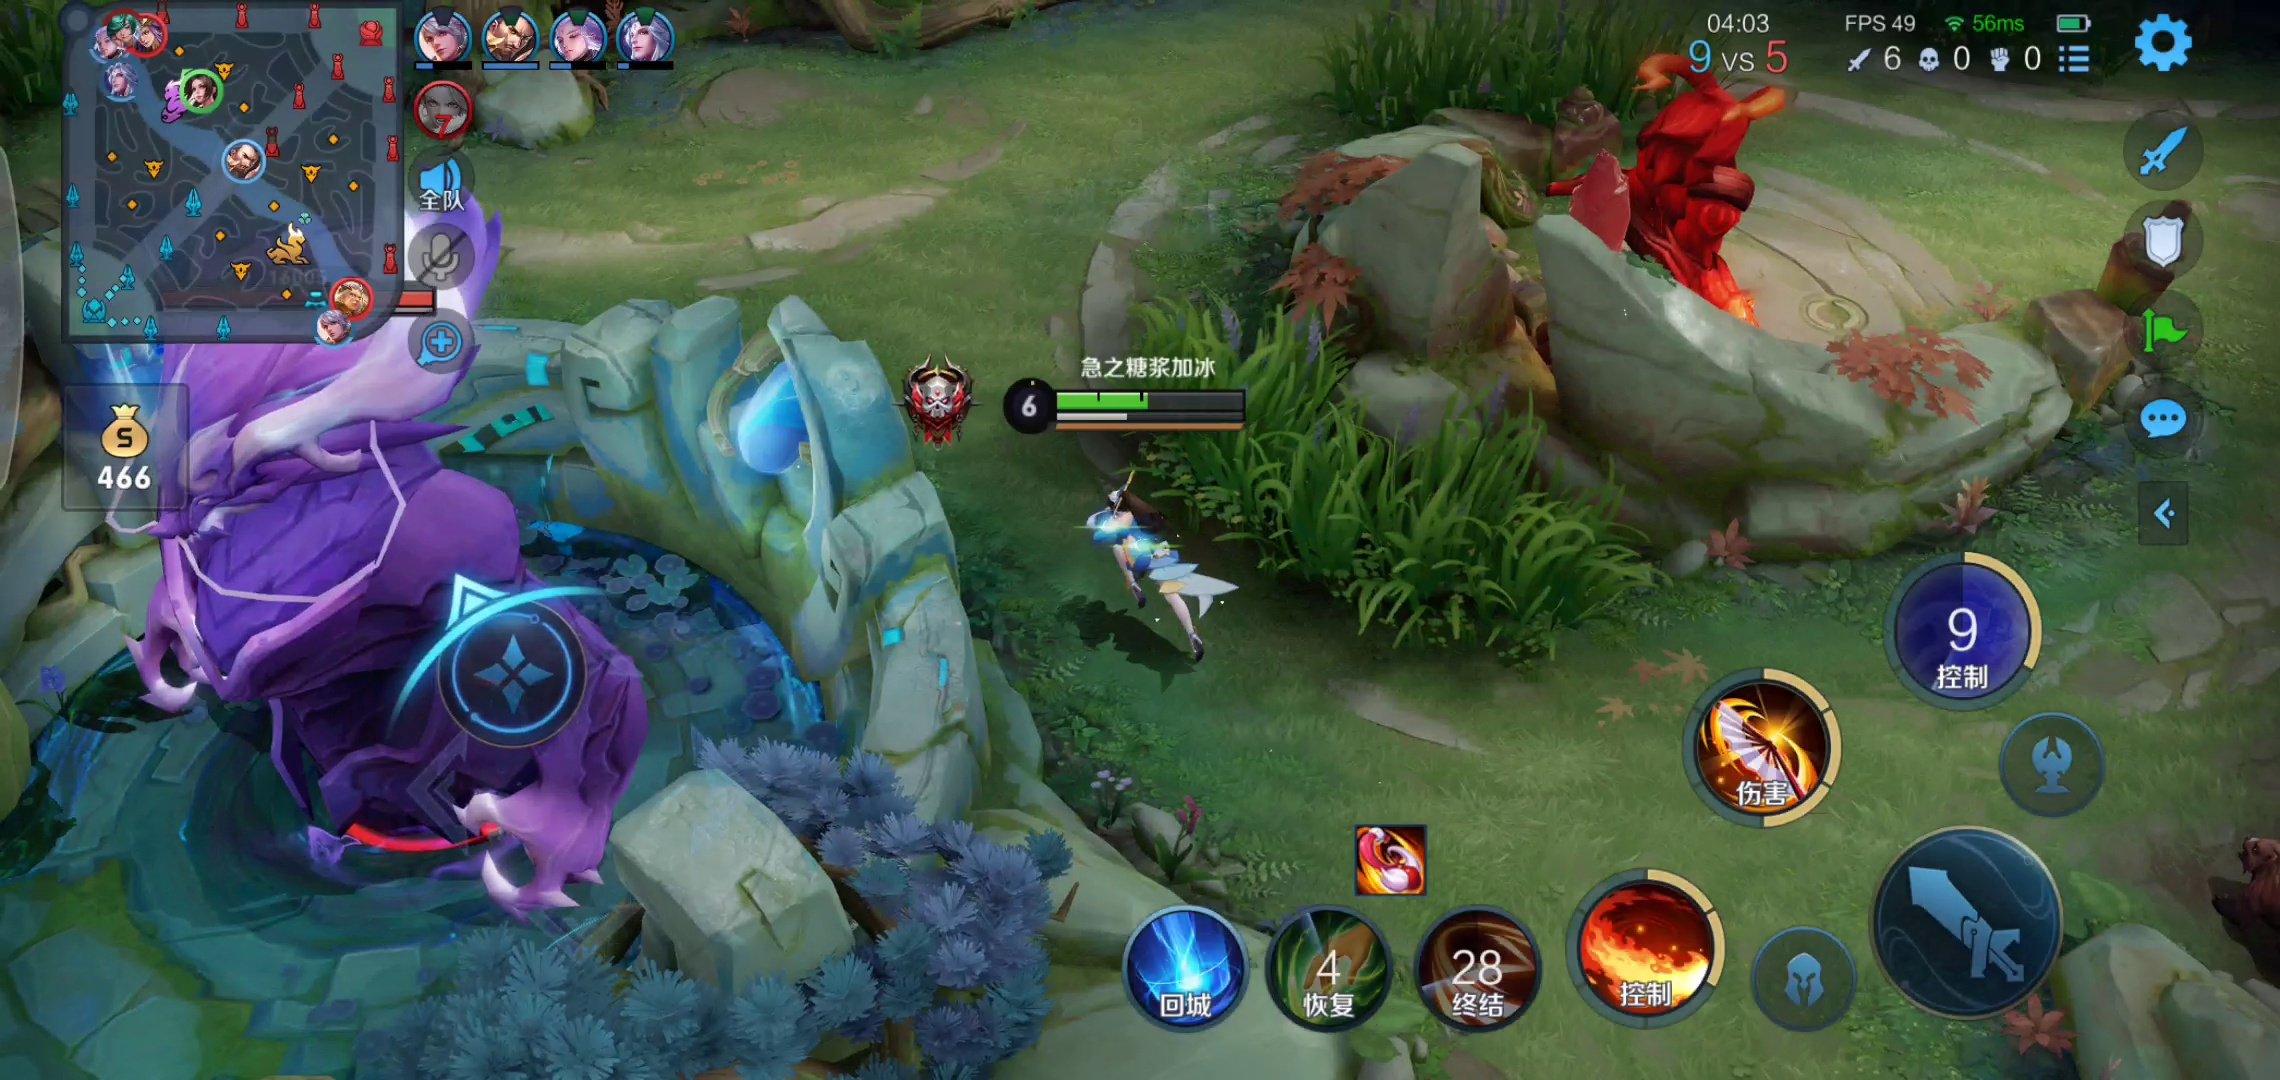buff: (1567, 63, 1784, 334)
dragon: (42, 201, 637, 927)
grass: (1136, 308, 1633, 664), (1298, 1, 1727, 115)
hero: (1085, 481, 1232, 660)
